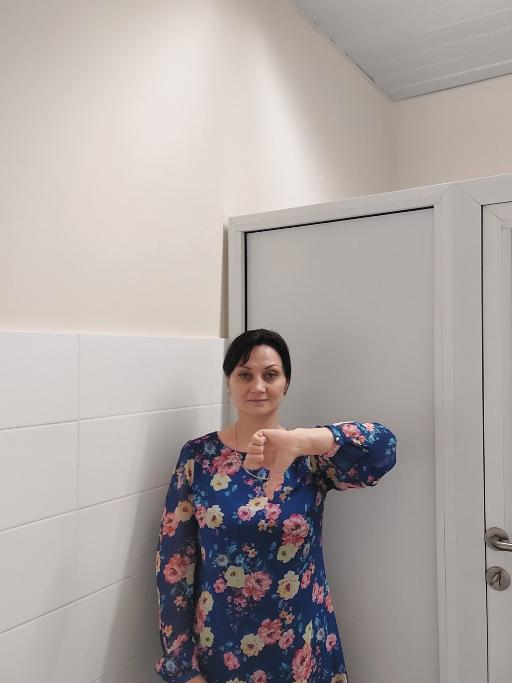dislike: (241, 423, 300, 504)
